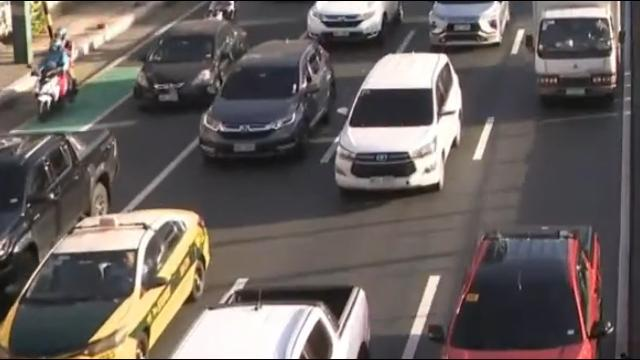car: (0, 206, 211, 360), (337, 39, 464, 196), (195, 31, 336, 164), (133, 20, 251, 113), (304, 2, 398, 46), (428, 1, 509, 49)
motorcycle: (29, 26, 81, 117), (53, 28, 74, 64)
pickup-truck: (430, 197, 623, 360), (0, 128, 122, 295), (157, 282, 374, 360)
truck: (526, 0, 636, 110)
